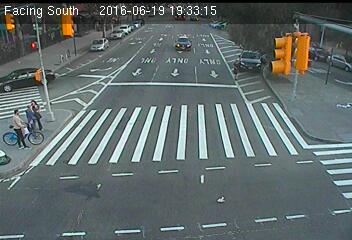neg: (1, 107, 28, 146), (59, 46, 74, 66)
pos: (227, 55, 247, 81), (19, 104, 34, 124), (28, 98, 42, 116)
